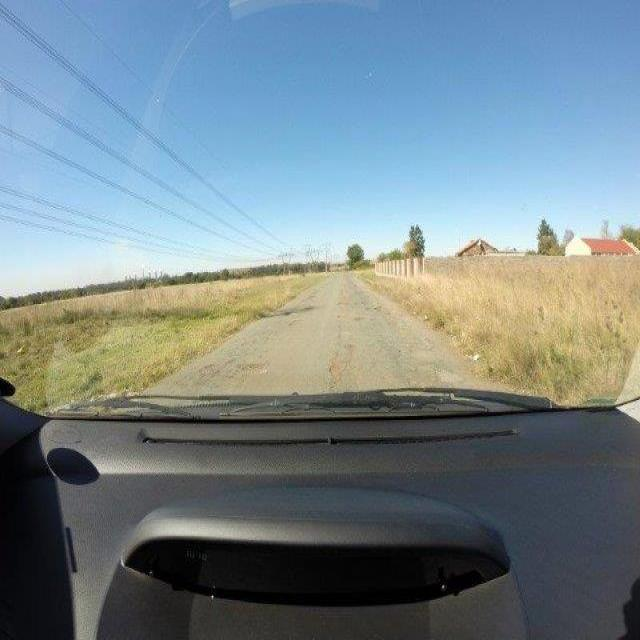lubang: (326, 342, 359, 389), (234, 361, 272, 378), (199, 360, 228, 380), (333, 310, 350, 324), (336, 298, 351, 312)
